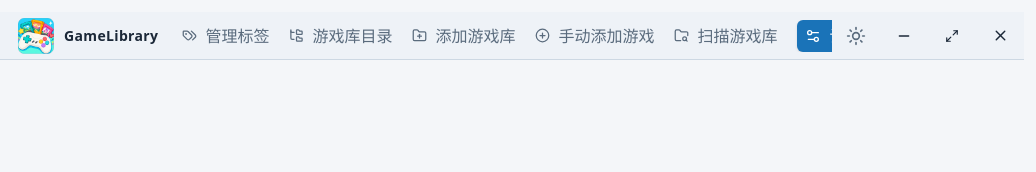
prevents repeated saves and reports a failure without changing the theme
Click the button named "切换深色/浅色模式" at (856, 36), box [832,12,880,59]
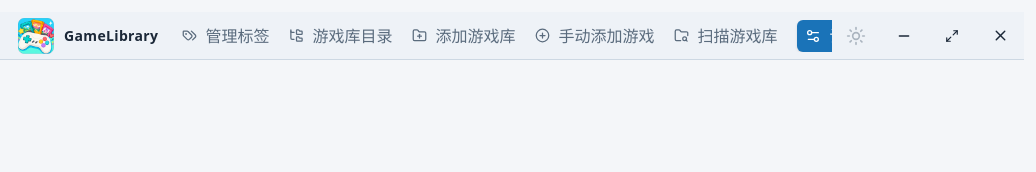
Expected: the button named "切换深色/浅色模式" is disabled
Click the button named "切换深色/浅色模式" at (856, 36), box [832,12,880,59]
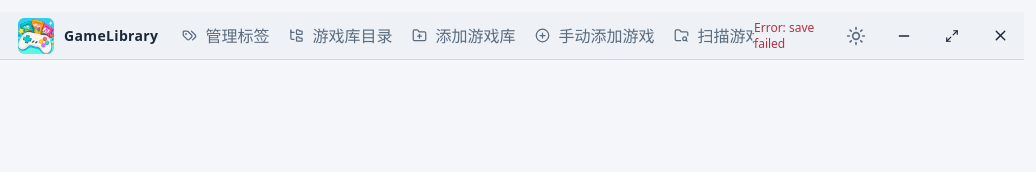
Expected: the message shows "save failed", [754,18,814,52]
Expected: the button named "切换深色/浅色模式" is enabled, [832,12,880,59]
